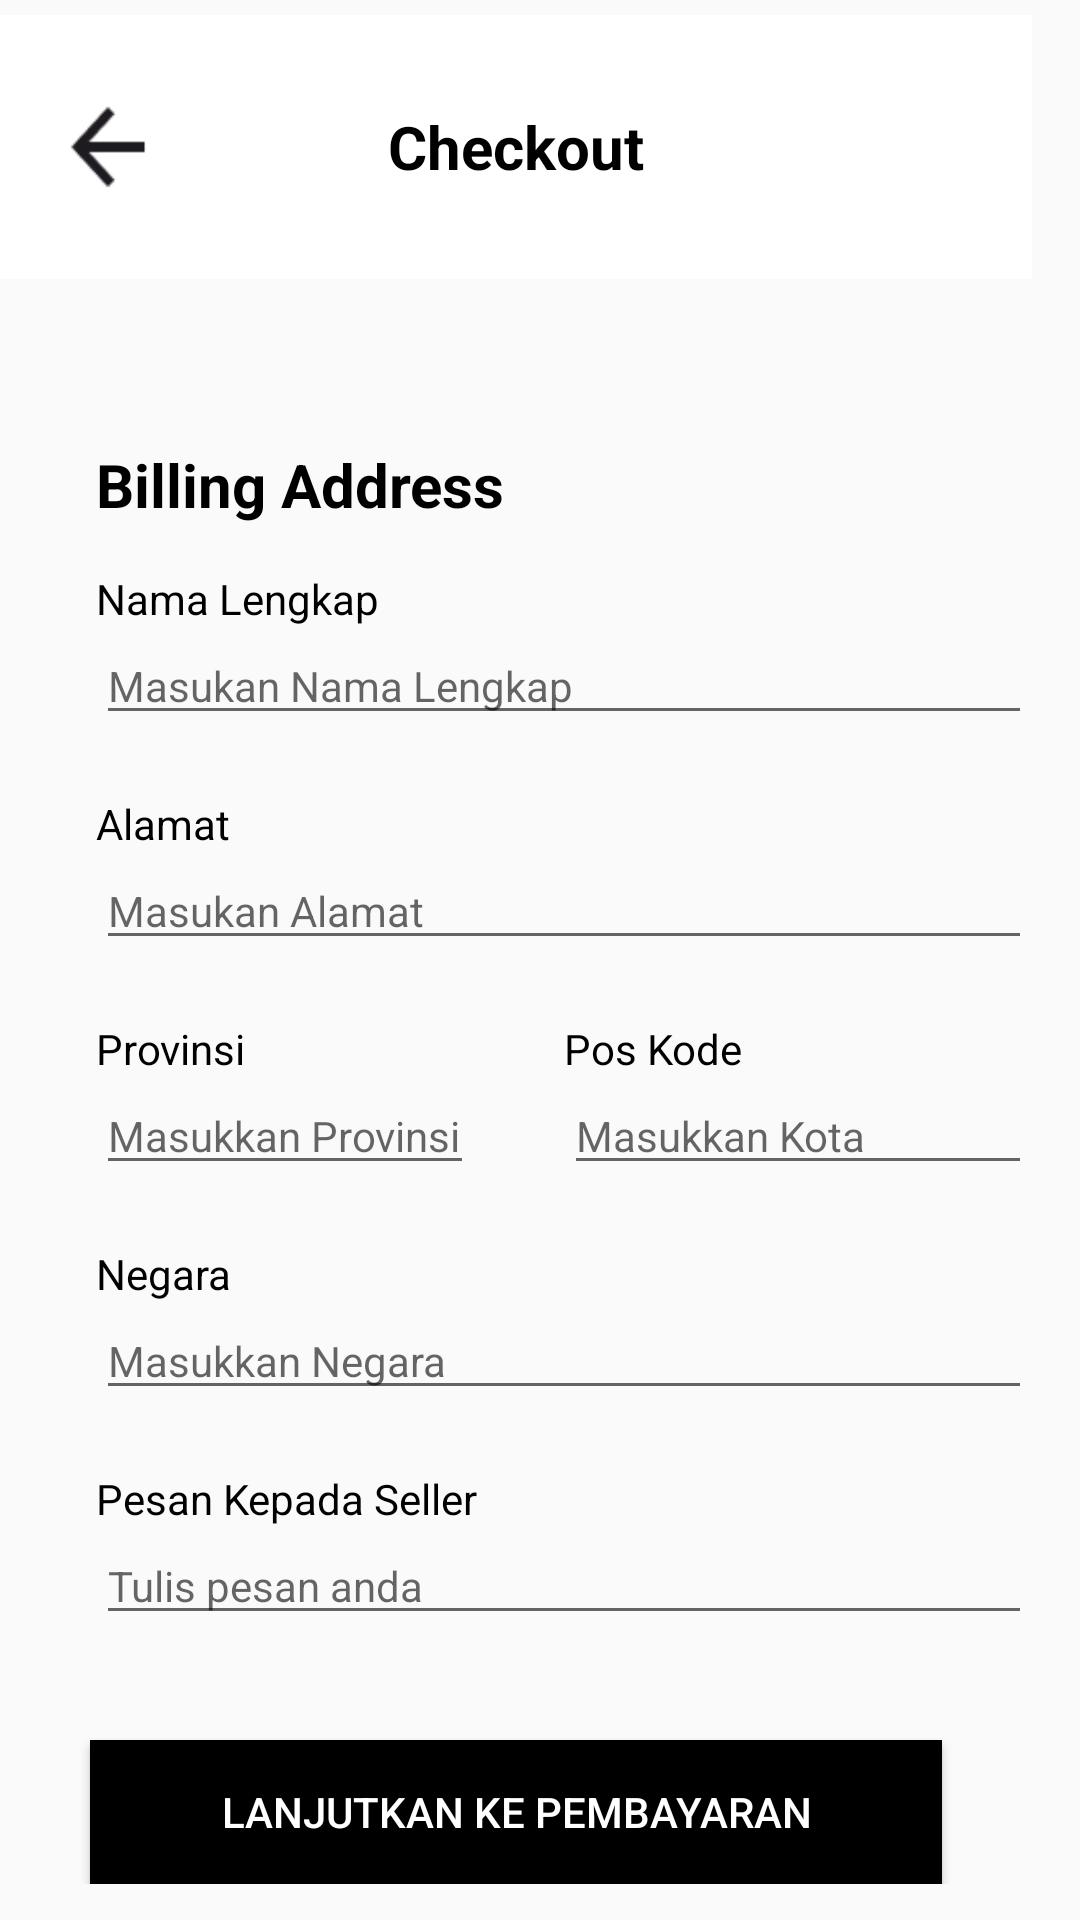

Icon click points for this 1080 x 1920 phone screenshot, format (x,y):
back: (108,147)
